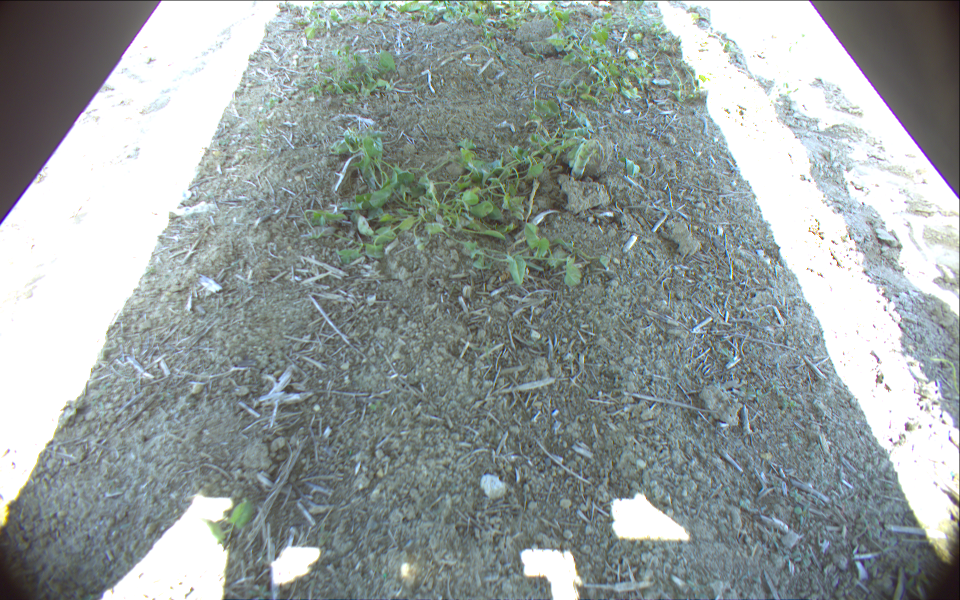aspa: (571, 137, 600, 178)
